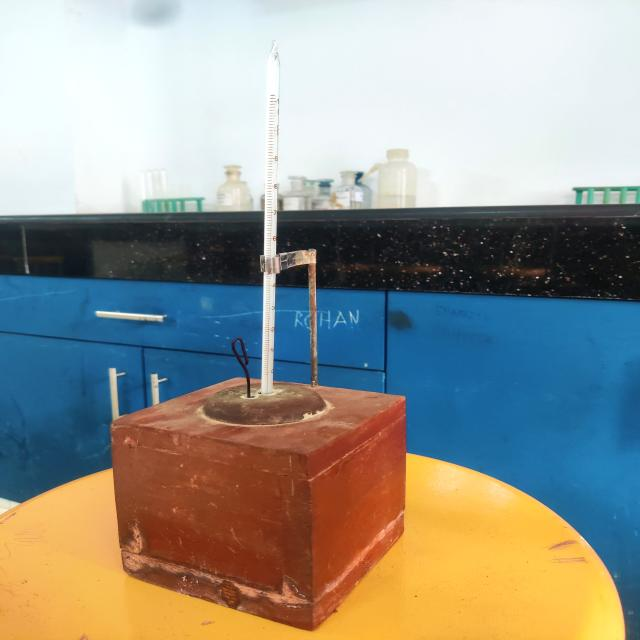Calorimeter: (89, 34, 428, 634)
